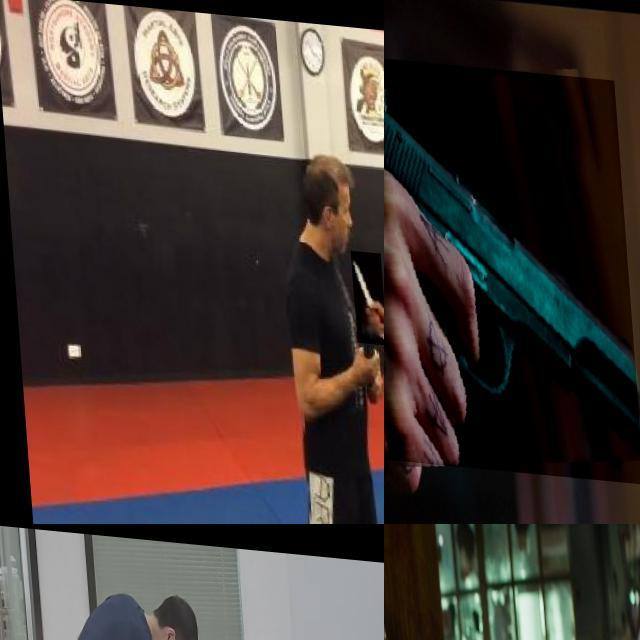-: (348, 244, 383, 338)
gun-knife-thesis - v11 Yolov5 augmented: (384, 49, 636, 474)
